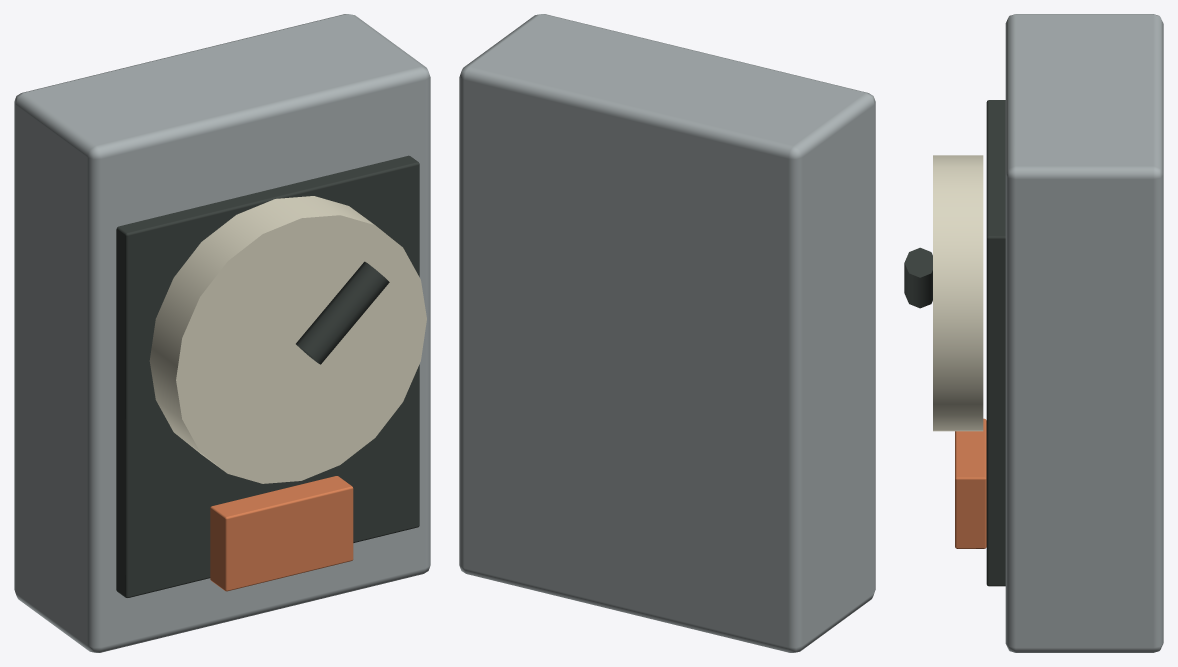
The model's file is off-grid-power-and-controls-timer-box-3479386a__3024.glb.
3 renders of one model, left to right at view 1: azimuth 30°, elevation 25°; view 2: azimuth 150°, elevation 25°; view 3: azimuth 270°, elevation 25°, orthographic. The views are drawn at different scales.
Parts seen in each view (by area): view 1: timer-box; view 2: timer-box; view 3: timer-box.
Part boxes in pixels (box(x1,y1,x2,y2)): timer-box: box(14, 14, 430, 652); timer-box: box(459, 14, 875, 652); timer-box: box(904, 14, 1163, 652).
Bounding box in the file's own units: 0.12 × 0.17 × 0.082.
